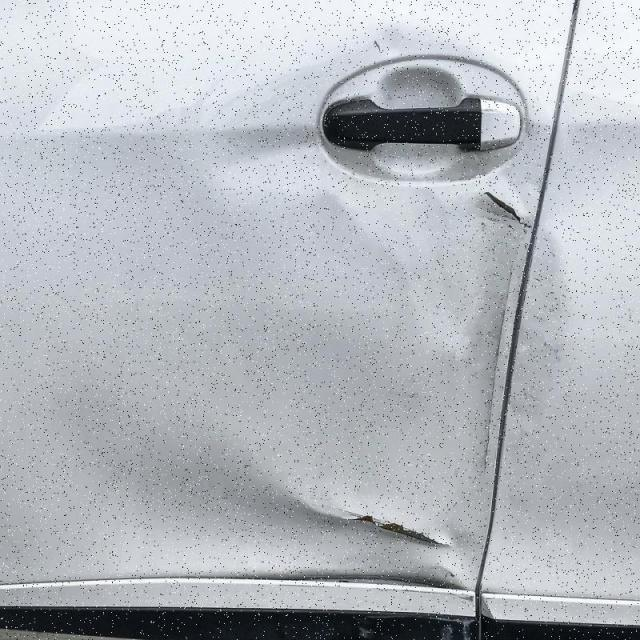dent: (185, 129, 486, 540)
